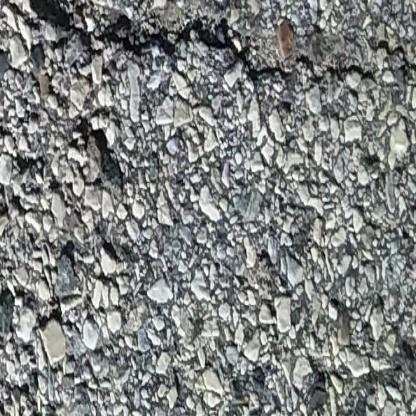Cracks: (23, 0, 385, 85), (0, 0, 24, 18)
